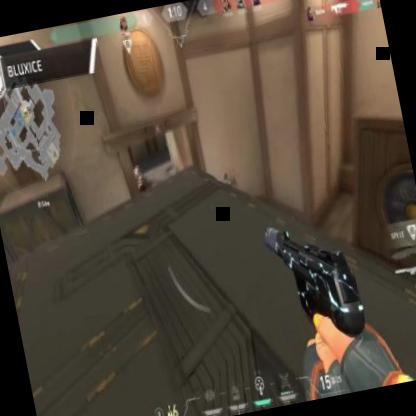enemy: (131, 164, 150, 212)
enemy_head: (132, 166, 140, 178)
